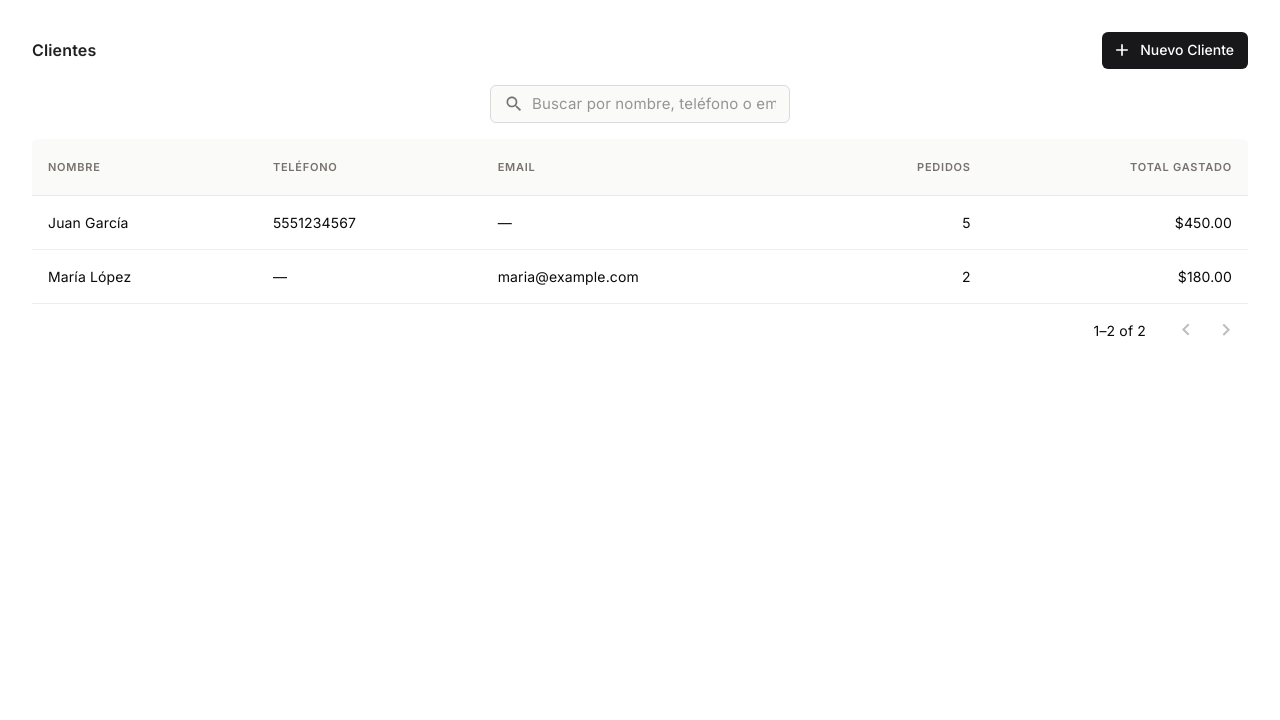
CustomerList › opens edit dialog on row click
Click the text "Juan García" at x=144, y=223, box [32, 196, 257, 250]
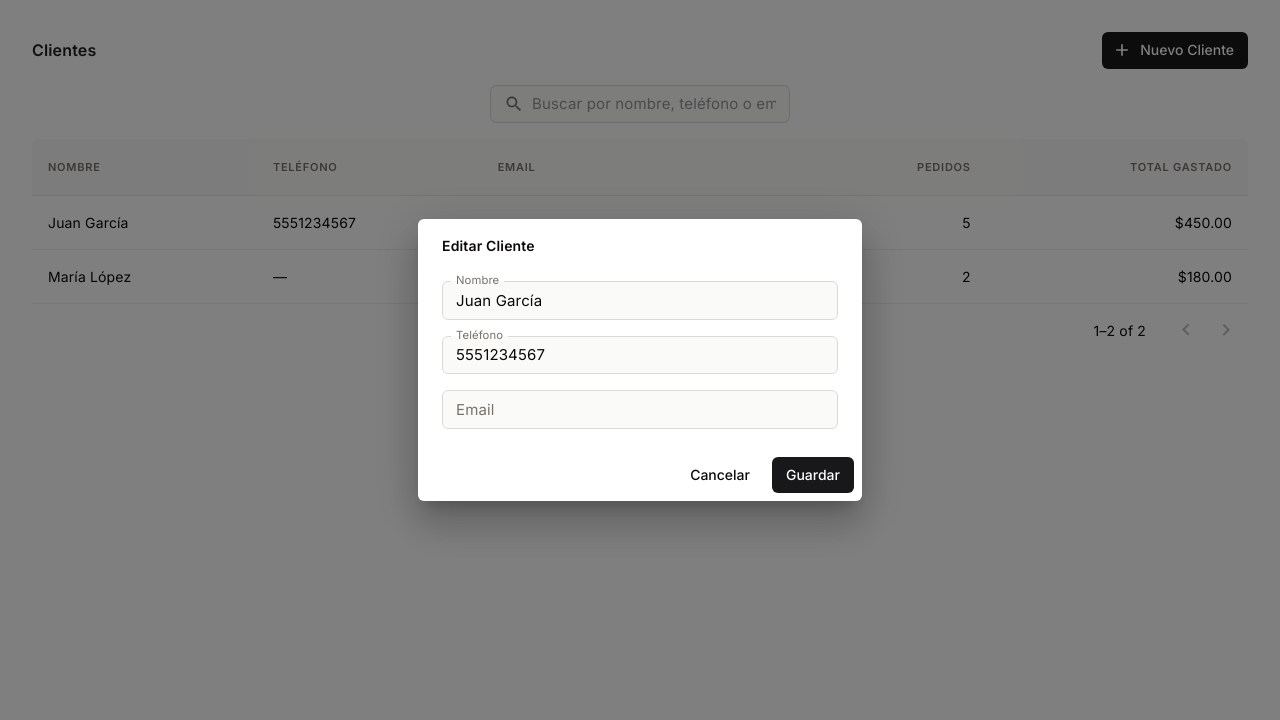
expect the heading "Editar Cliente" is shown: met, box [442, 237, 535, 254]
expect the field named "nombre cliente" holds "Juan García": met, box [442, 281, 838, 320]
